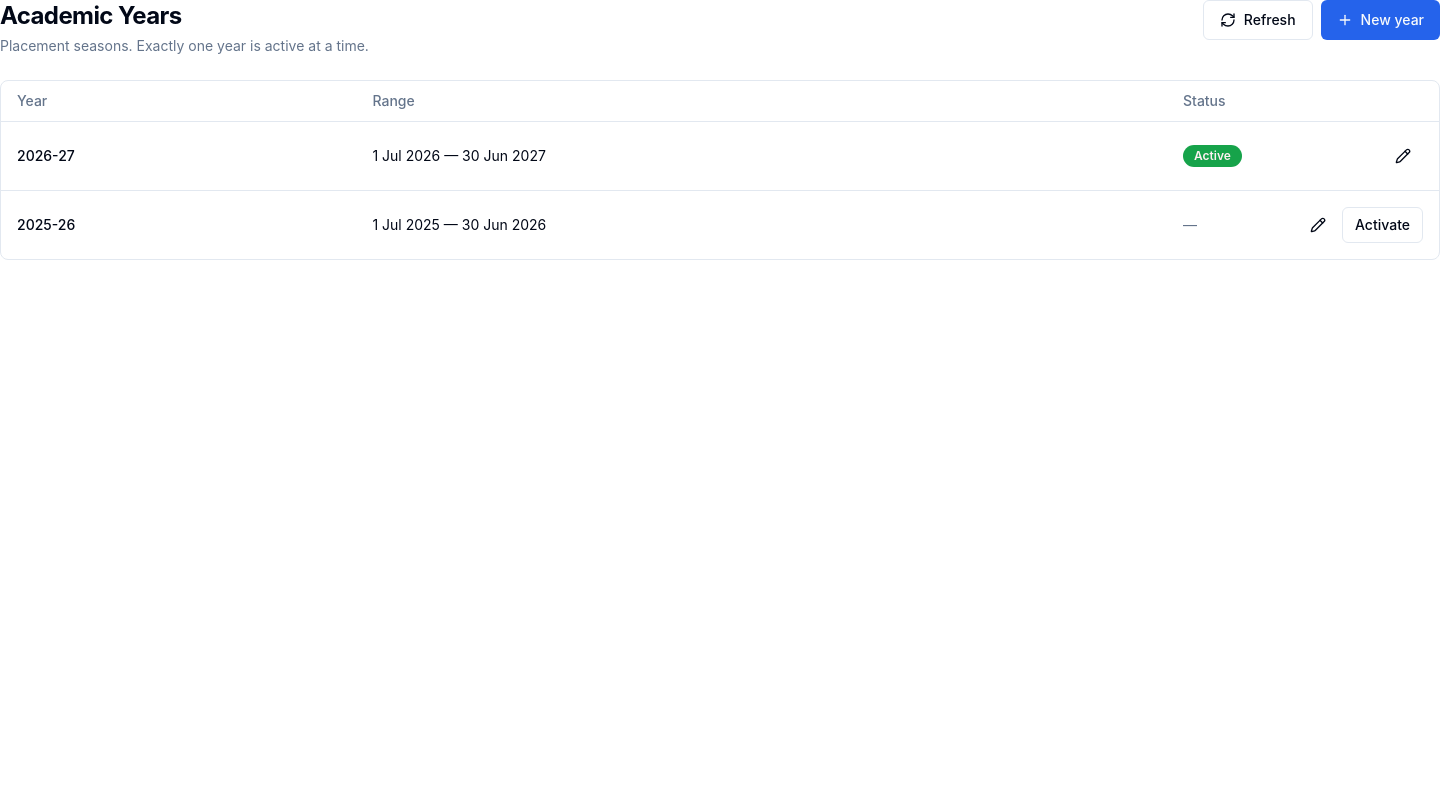
AcademicYearsPage › sends only the date range when updating
Expected: the text "2026-27" is shown, [17,146,75,164]
Click the button named "Edit 2026-27". click: (1403,156)
box: [1383,138,1423,174]
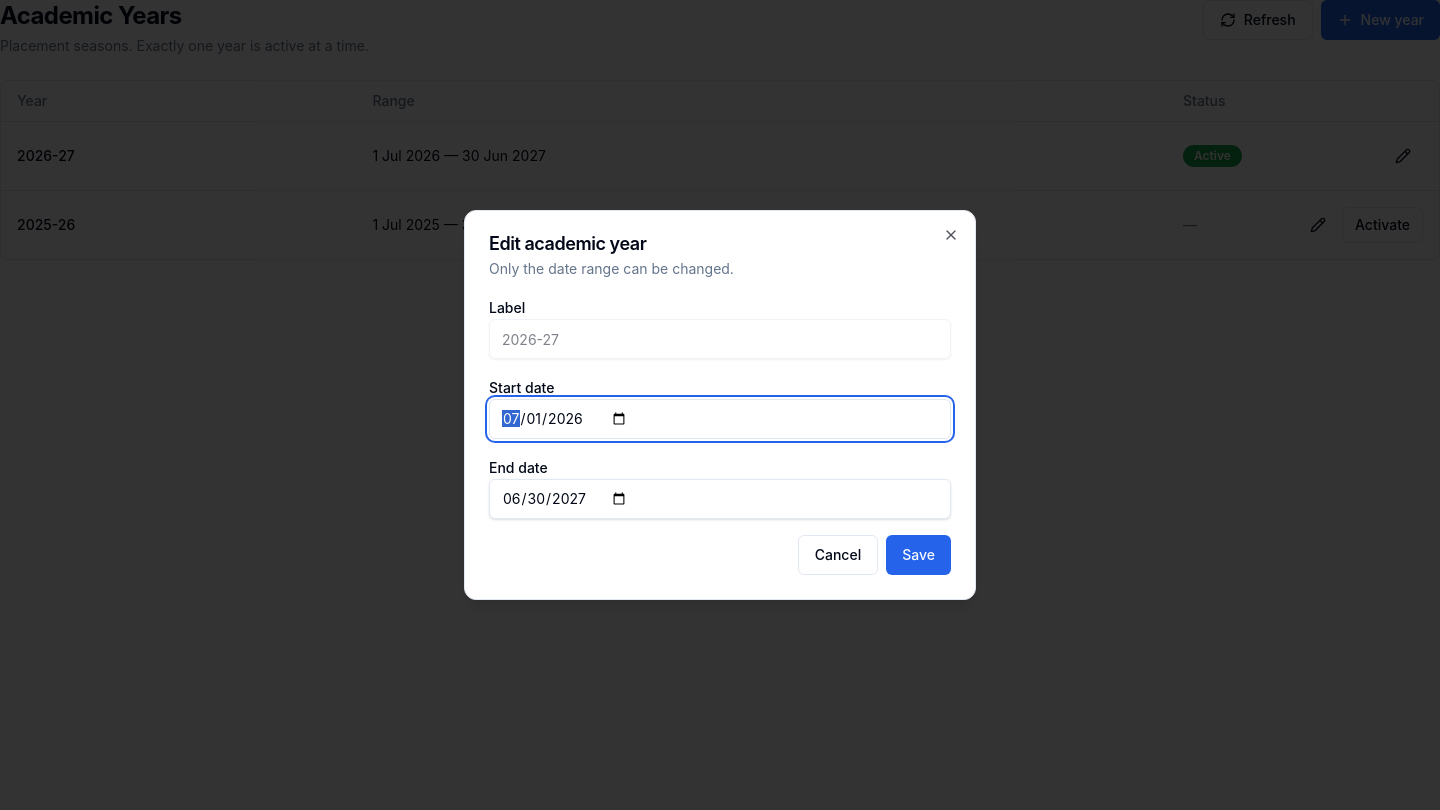
Click the button "Save". click: (919,555)
box: [886,535,951,575]
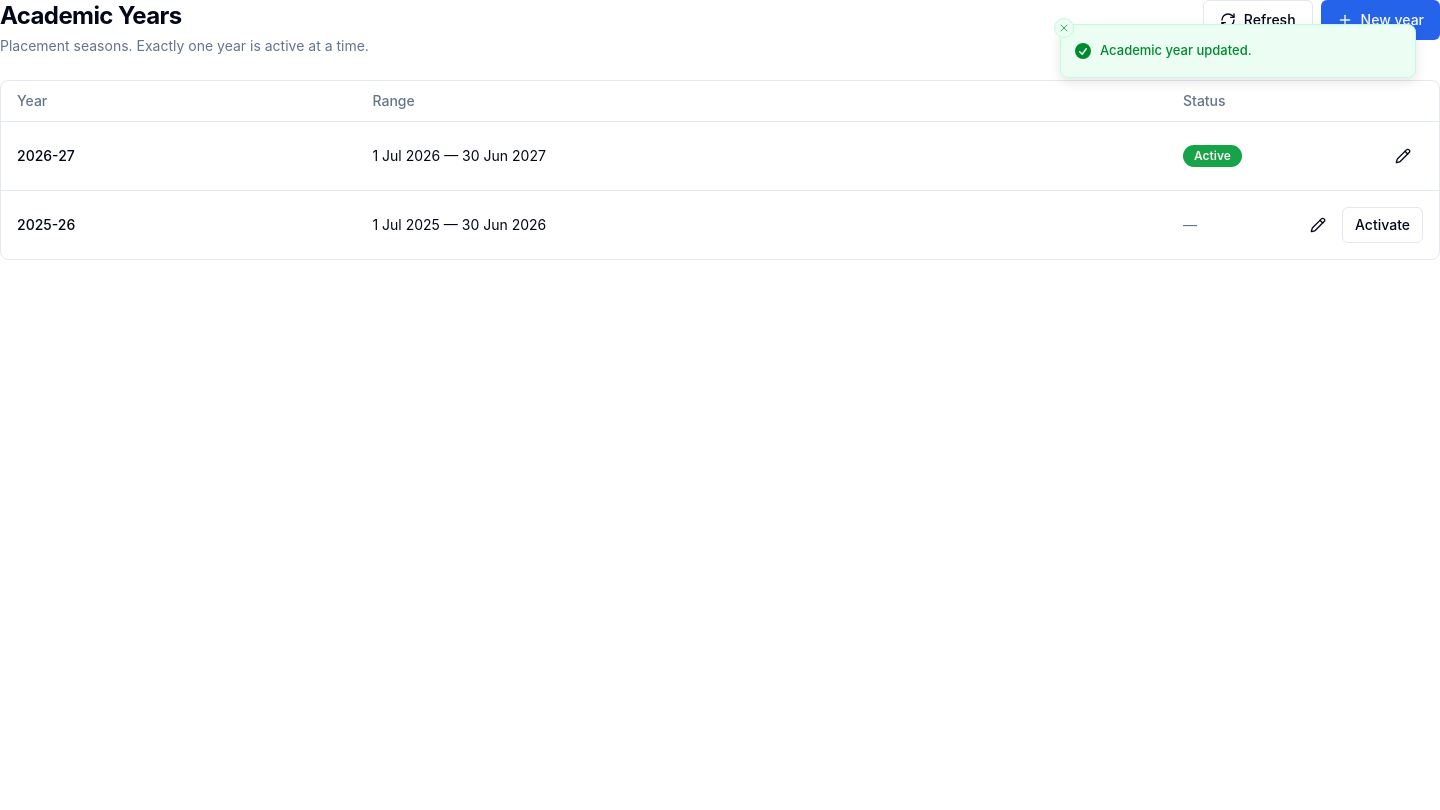
Expected: the text "Academic year updated." is shown, [1100,41,1252,60]
